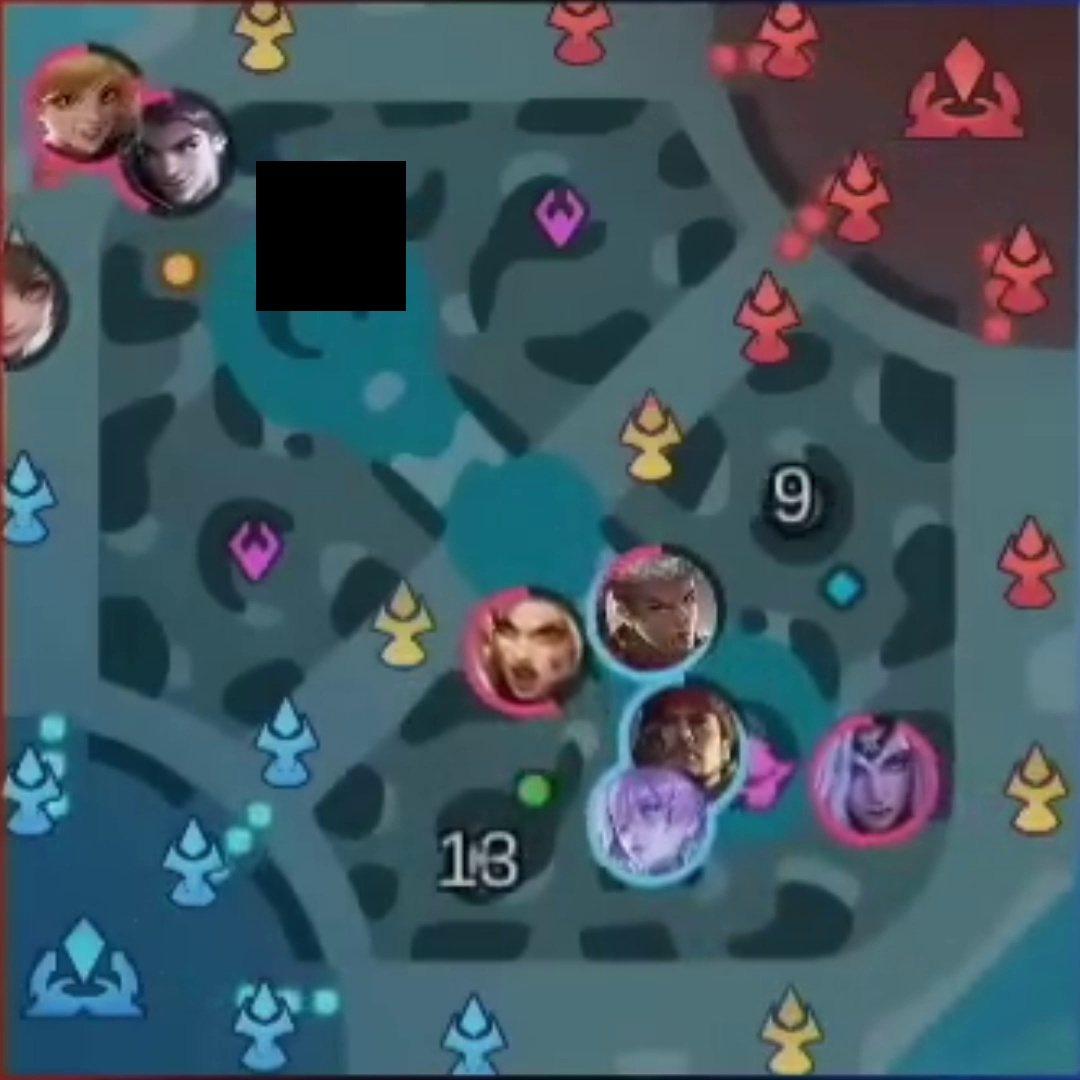Chou: (614, 564, 708, 658)
Claude: (139, 111, 220, 201)
Fanny: (47, 60, 130, 156)
Lapu-Lapu: (639, 696, 727, 775)
Masha: (484, 604, 577, 702)
Novaria: (600, 775, 696, 868)
Valentina: (823, 729, 923, 825)
Wanwan: (6, 252, 51, 367)
